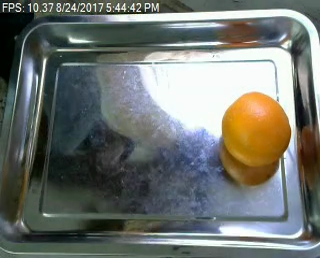Orange: (221, 91, 291, 167)
